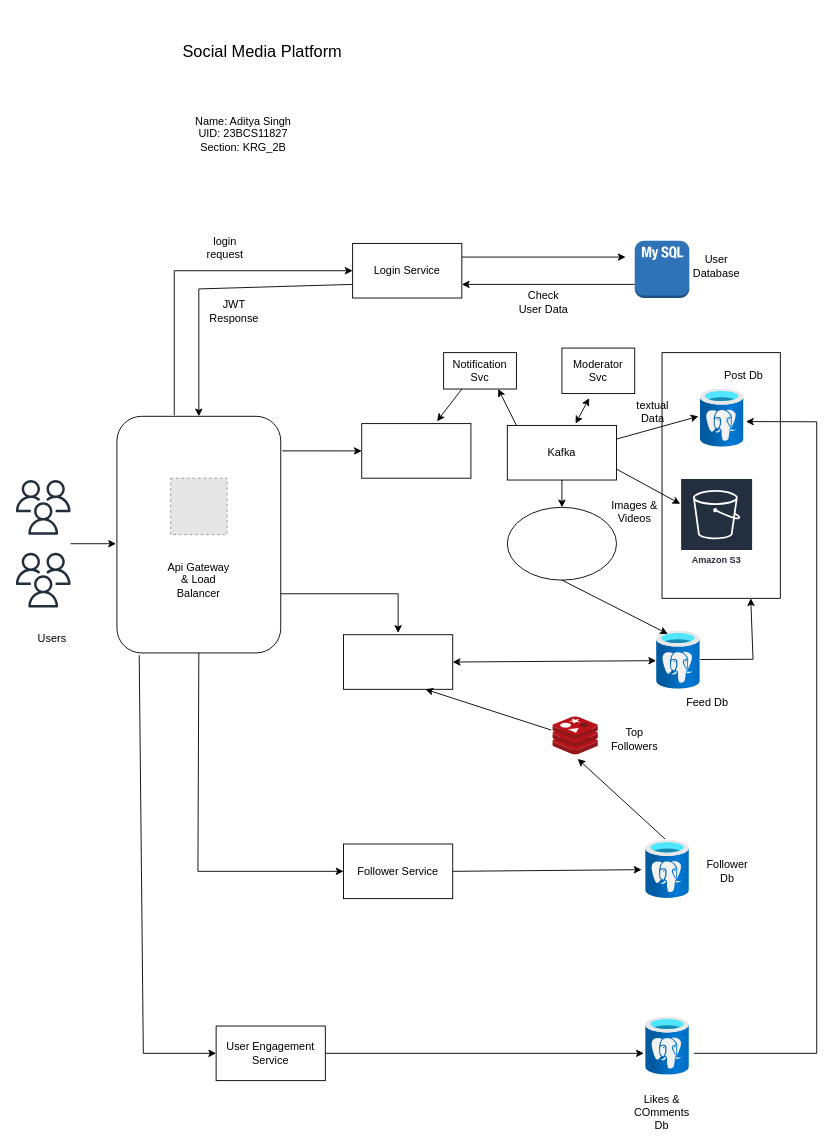
This 840x1148 diagram has some shape labels left out. Grey dashed boxes stand in for pictures. The shapes that lost their labels are listed below. From the top down, each one's box as (x1, y1, x2, y2) in pixels, then its label:
(361, 423, 471, 478): Post Service
(506, 506, 617, 580): FanOut Push
(343, 634, 453, 689): Feed Service
